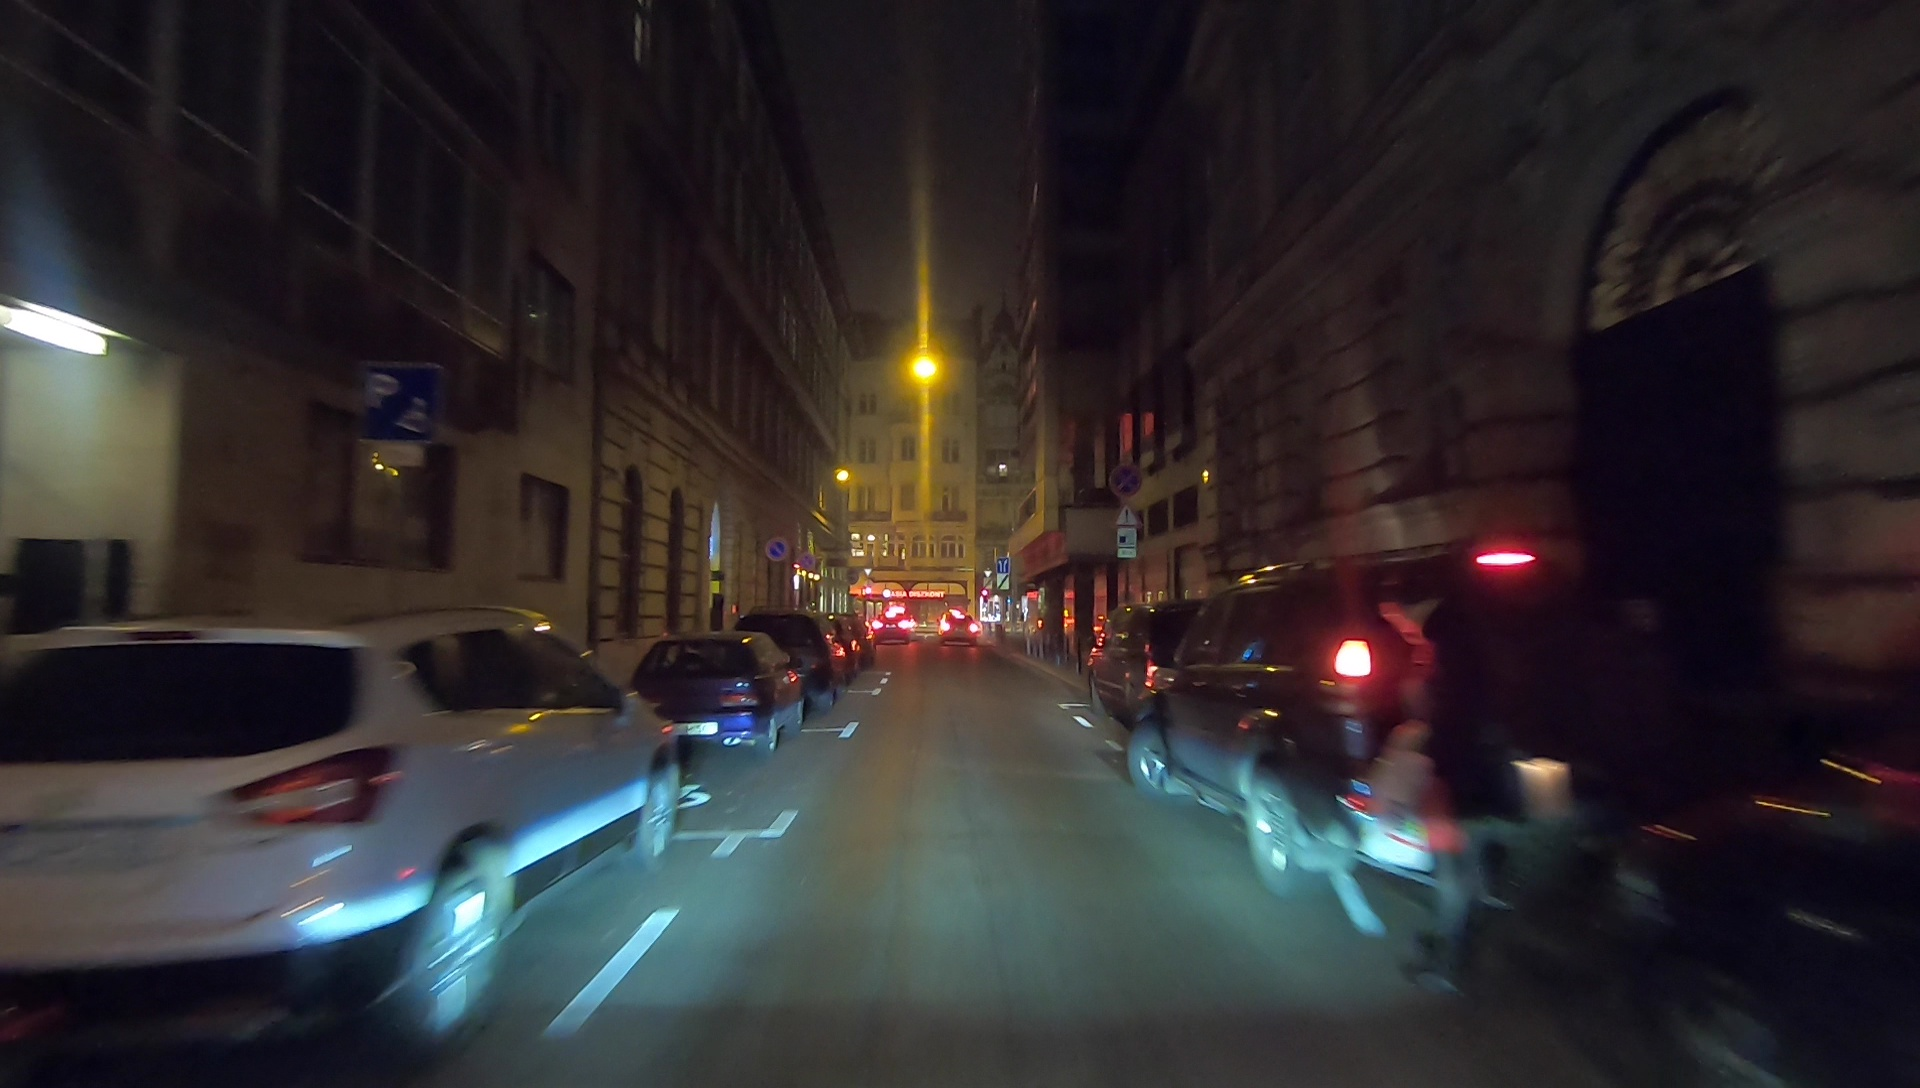person: (1395, 526, 1515, 982)
